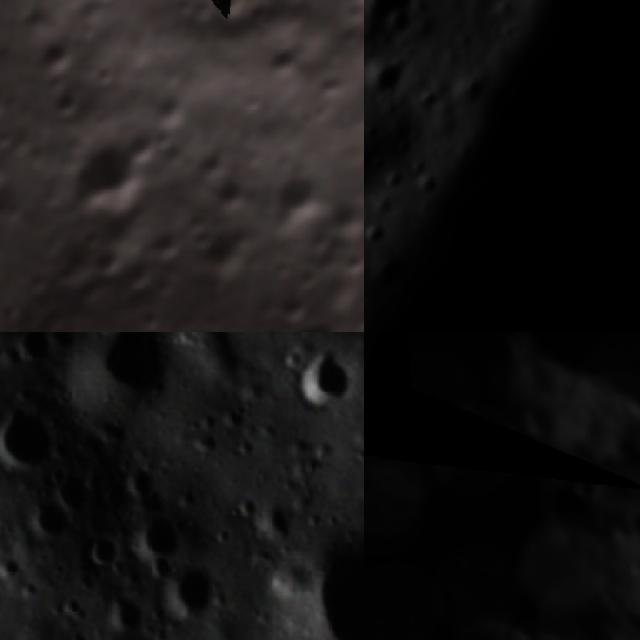crater: (62, 118, 174, 232), (188, 203, 276, 294), (84, 332, 175, 407), (262, 154, 342, 236), (307, 532, 364, 640), (286, 347, 361, 413), (364, 0, 447, 58), (155, 558, 221, 626), (0, 399, 59, 475), (42, 0, 178, 28), (136, 77, 197, 137), (398, 152, 458, 211), (189, 135, 246, 192), (364, 43, 415, 106), (30, 24, 85, 80), (21, 496, 78, 550), (128, 506, 186, 557), (146, 216, 198, 268), (51, 468, 103, 520), (101, 586, 153, 637), (74, 529, 123, 580), (81, 236, 130, 286), (46, 80, 94, 128), (230, 0, 285, 40), (264, 40, 308, 86), (374, 0, 420, 44), (120, 250, 164, 295), (282, 305, 351, 332), (5, 332, 56, 367), (411, 81, 449, 120), (364, 207, 396, 253), (0, 64, 21, 125), (377, 158, 410, 192), (563, 472, 603, 500), (364, 158, 380, 219)
